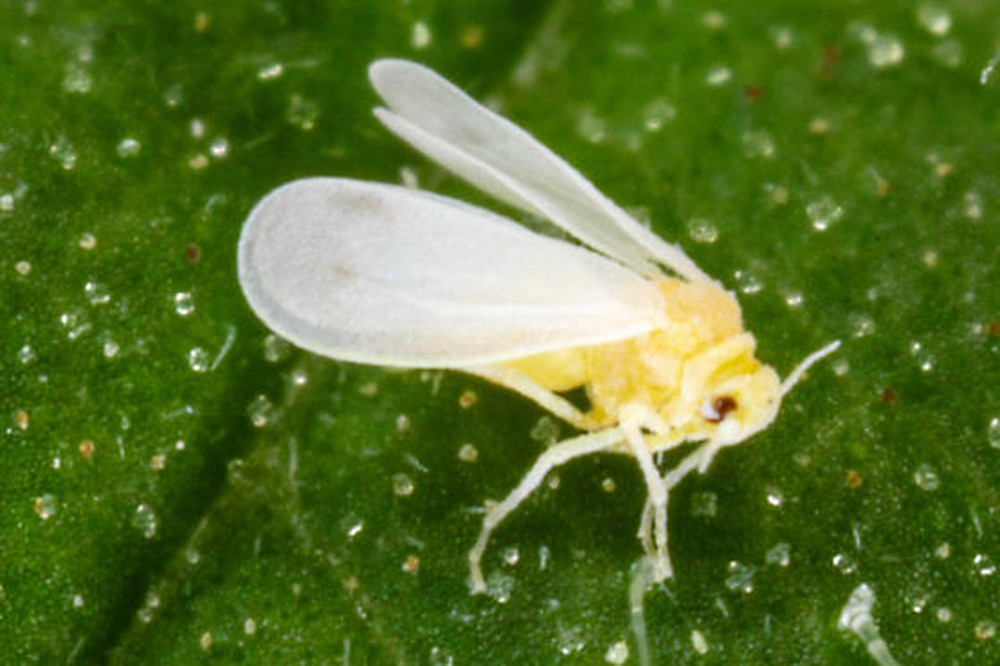Mosca Blanca: (231, 64, 851, 597)
